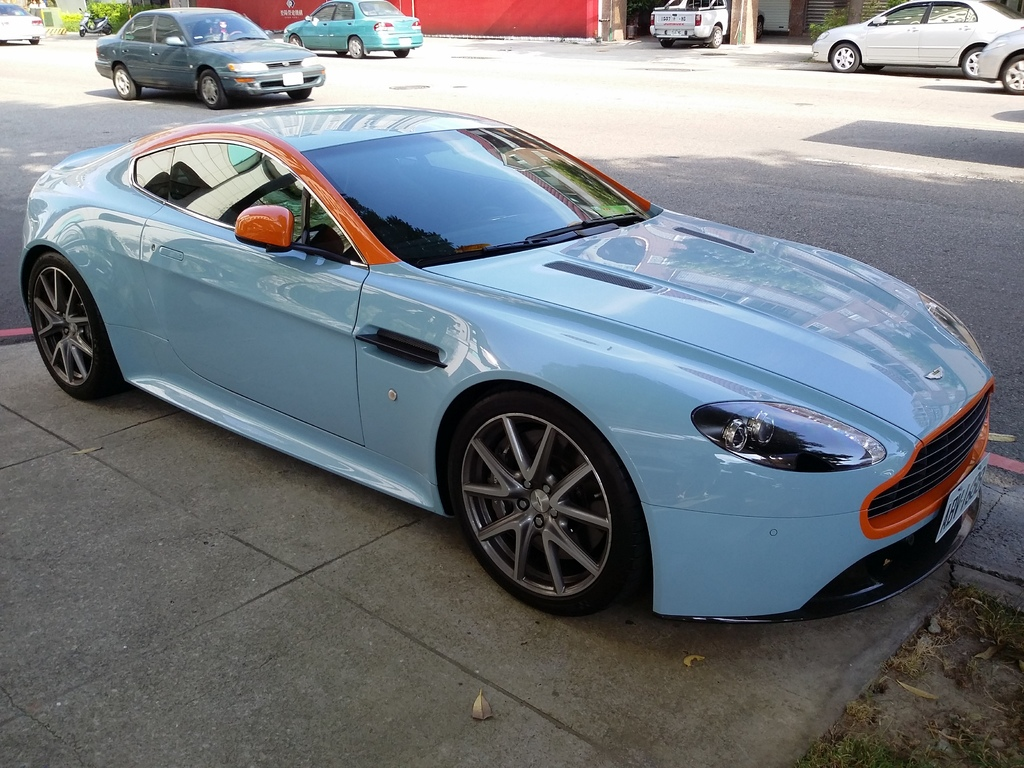Car: (28, 90, 992, 632), (98, 0, 318, 108), (811, 0, 1022, 64), (293, 0, 417, 59), (976, 31, 1023, 94), (0, 0, 48, 40)
